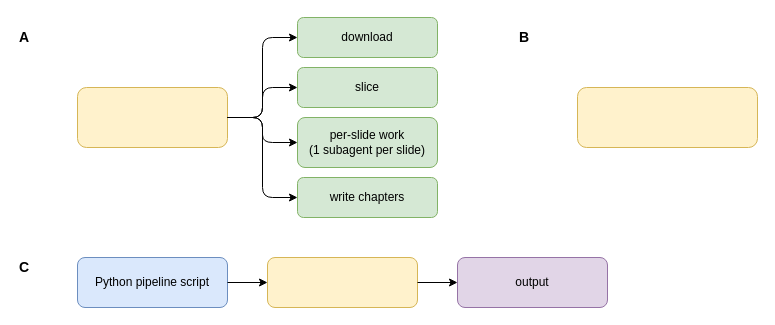
This 775x325 diagram has some shape labels left out. Here are the shapes that lost their labels. From the top down, the centre of each, then its label:
At (x=152, y=117): "Orchestrator (SKILL.md)".
At (x=667, y=117): "One agent does all steps in sequence".
At (x=342, y=282): "calls claude -p for LLM steps".
